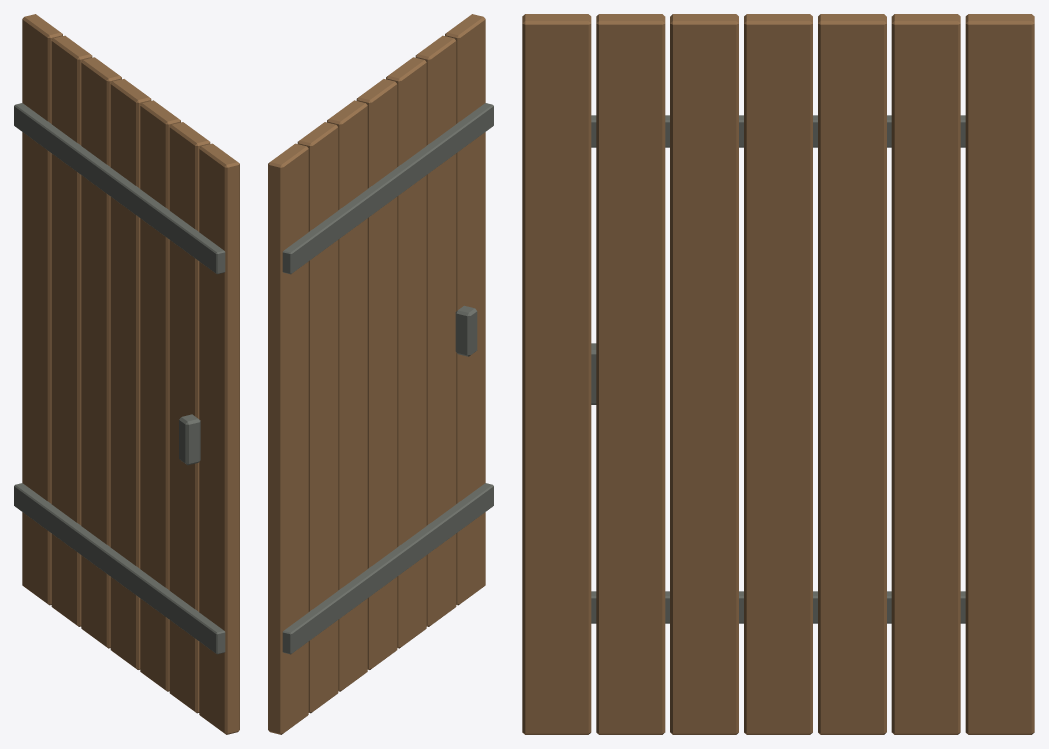
Rendered from SM_WL_DoorLeaf130x200.fbx.
3 renders of one model, left to right at view 1: azimuth 30°, elevation 25°; view 2: azimuth 150°, elevation 25°; view 3: azimuth 270°, elevation 25°, orthographic. The views are drawn at different scales.
Visible parts, largest first — view 1: SM_WL_DoorLeaf130x200; view 2: SM_WL_DoorLeaf130x200; view 3: SM_WL_DoorLeaf130x200.
Boxes of the visible parts, bbox=[...] form: SM_WL_DoorLeaf130x200: bbox=[14, 14, 239, 734]; SM_WL_DoorLeaf130x200: bbox=[268, 14, 493, 734]; SM_WL_DoorLeaf130x200: bbox=[522, 14, 1034, 734].
Bounding box in the file's own units: 1.27 × 0.11 × 1.95.
